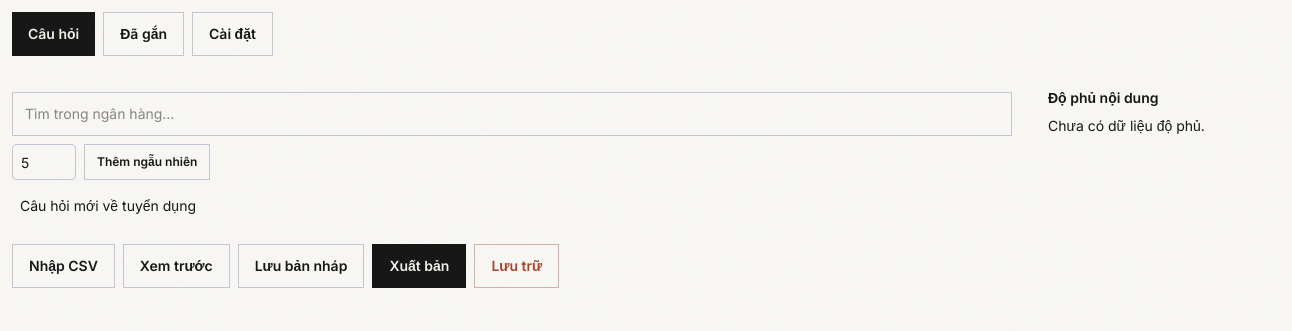
Test: TestBuilder › updates knowledge coverage when adding a question from the bank
The image size is (1292, 331).
Expected: the list item "Chưa có dữ liệu độ phủ." is shown, [1048,117,1205,134]
Click the button "Câu hỏi mới về tuyển dụng" at (108, 206), box [12,188,1012,224]
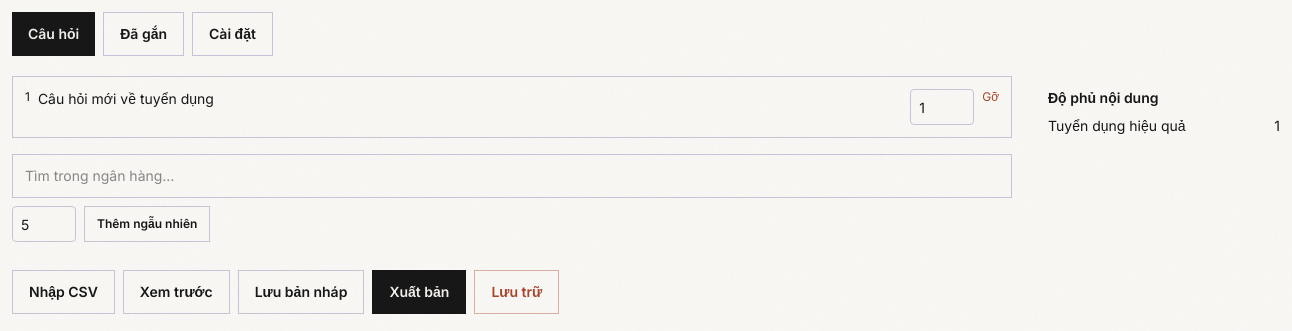
Expected: the element "Độ phủ nội dung" is shown, [1048,88,1280,136]
Result: the text "Tuyển dụng hiệu quả" is shown at [1048,116,1186,136]
Result: the text "1" next to "Tuyển dụng hiệu quả" is shown at [1274,117,1280,134]
